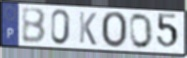0: (50, 8, 72, 47)
5: (156, 13, 180, 52)
B: (21, 7, 48, 45)
K: (78, 11, 97, 47)
O: (100, 11, 129, 50), (129, 12, 154, 50)
